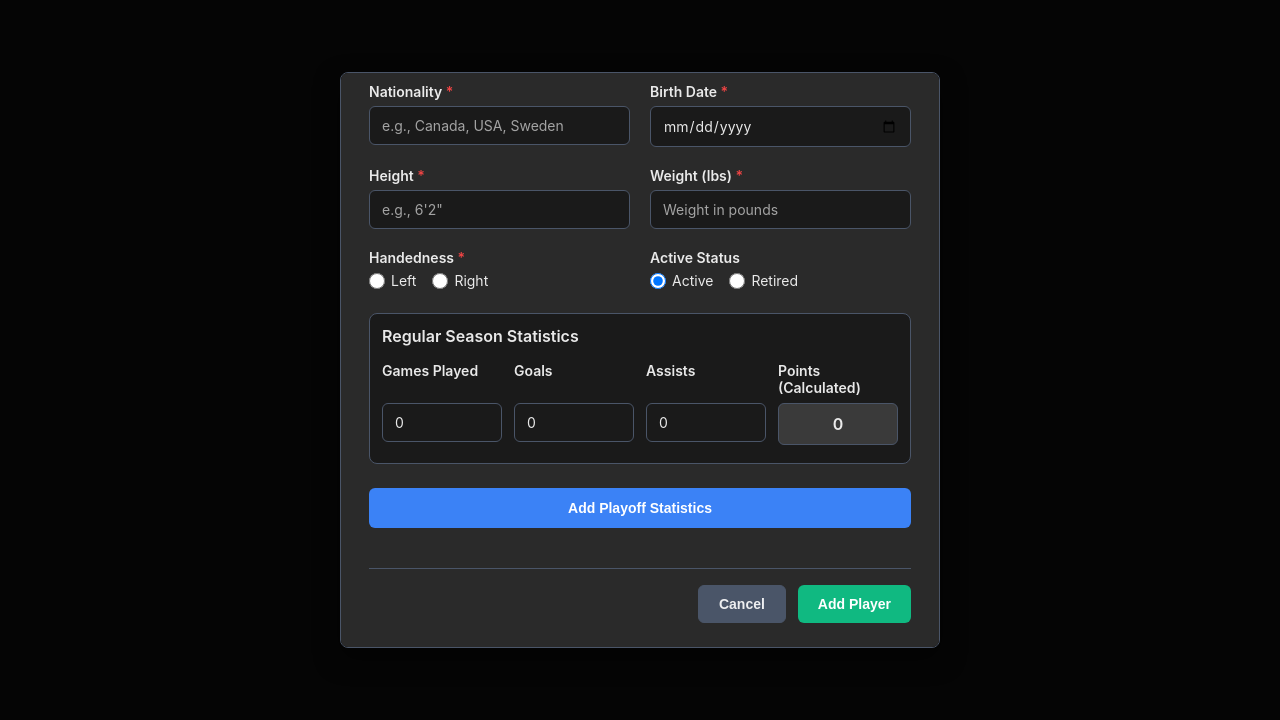
Scenario: PlayerFormModal › Form Validation › should show validation errors for required fields
(page scrolled)
Click the button "Add Player" at (854, 604), box [798,585,911,623]
(page scrolled)
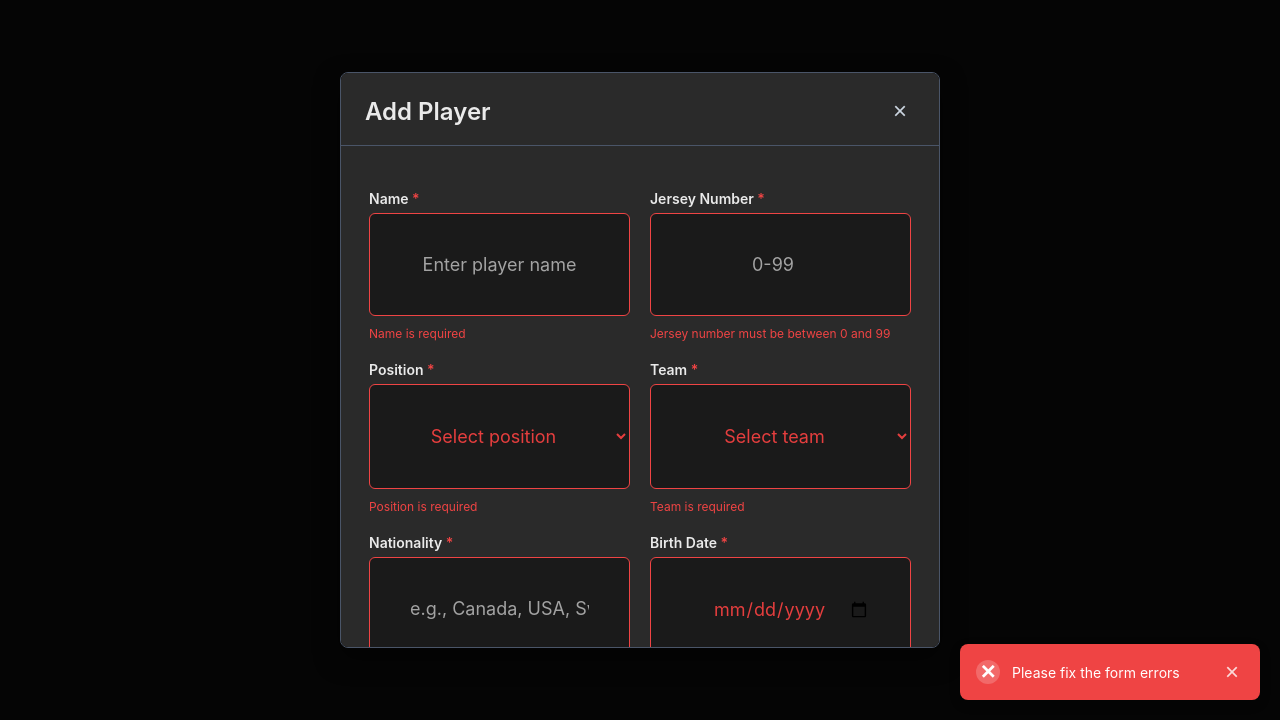
Now the text "Name is required" is shown, box [369,326,466,341]
